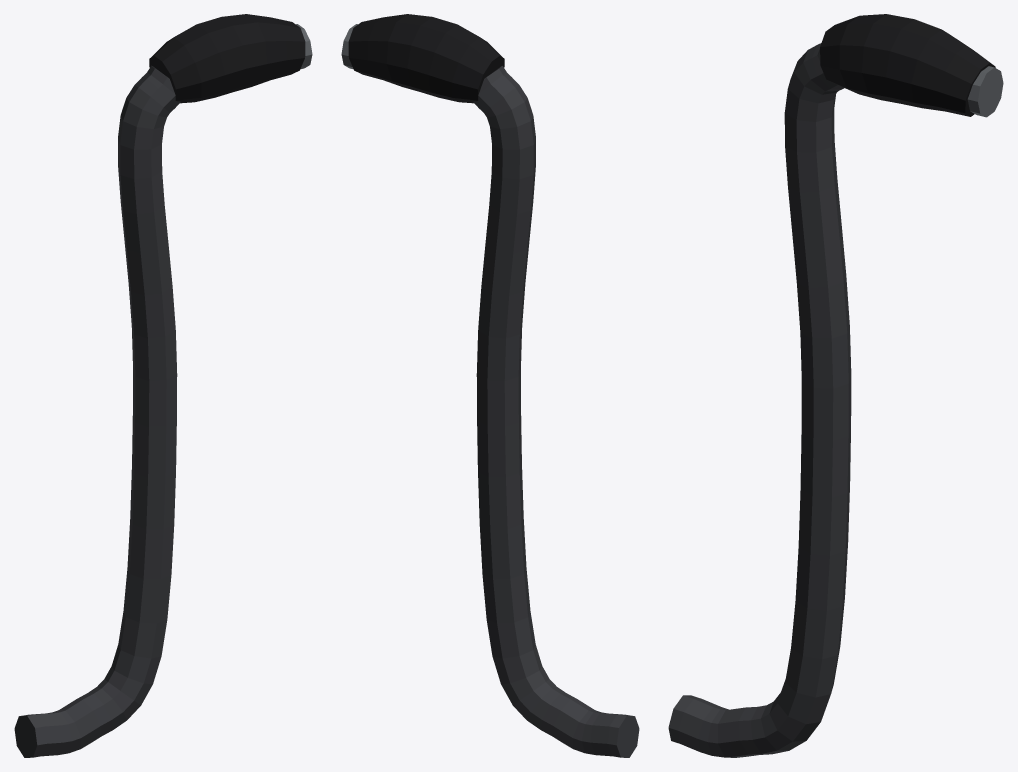
The model's file is MinidoracatTesla_CablePlugModelX.fbx.
3 views of the same model, side by side, from view 1: azimuth 30°, elevation 25°; view 2: azimuth 150°, elevation 25°; view 3: azimuth 330°, elevation 25° (orthographic). The views are drawn at different scales.
Visible parts, largest first — view 1: MinidoracatTesla_CablePlugModelX; view 2: MinidoracatTesla_CablePlugModelX; view 3: MinidoracatTesla_CablePlugModelX.
Part boxes in pixels (x1,y1,x2,y2): MinidoracatTesla_CablePlugModelX: [14, 14, 312, 757]; MinidoracatTesla_CablePlugModelX: [341, 14, 639, 757]; MinidoracatTesla_CablePlugModelX: [668, 14, 1003, 757].
Bounding box in the file's own units: 0.3639 × 0.8693 × 0.088.
